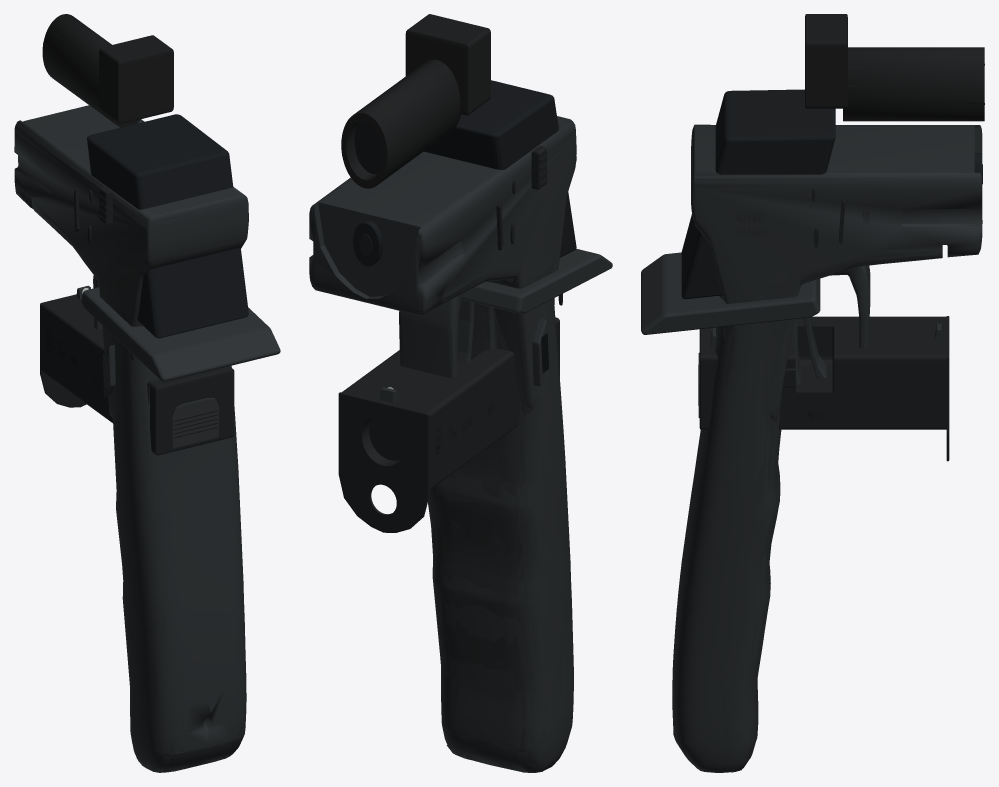
The model's file is weapon_glock17.glb.
The picture shows the model from 3 angles, left to right: view 1: azimuth 30°, elevation 25°; view 2: azimuth 150°, elevation 25°; view 3: azimuth 270°, elevation 25°; orthographic projection. The views are drawn at different scales.
Visible parts, largest first — view 1: Glock051_L0_G17_Frame_LOD0.001, Glock051_L0_G17_Magazine_LOD0.001, Glock051_L1_G17_Frame_LOD0.001, Glock051_L0_G17_Slide_LOD0.001, Glock051_L0_G17_BarrelVisual_LOD0.001, Glock051_L1_G17_Slide_LOD0.001; view 2: Glock051_L0_G17_Frame_LOD0.001, Glock051_L1_G17_Frame_LOD0.001, Glock051_L0_G17_Slide_LOD0.001, Glock051_L0_G17_BarrelVisual_LOD0.001, Glock051_L0_G17_Magazine_LOD0.001, Glock051_L1_G17_Slide_LOD0.001, Glock051_L1_G17_BarrelVisual_LOD0.001, Glock051_L0_G17_Trigger_LOD0.001; view 3: Glock051_L0_G17_Frame_LOD0.001, Glock051_L1_G17_Frame_LOD0.001, Glock051_L0_G17_Slide_LOD0.001, Glock051_L0_G17_Magazine_LOD0.001, Glock051_L0_G17_BarrelVisual_LOD0.001, Glock051_L1_G17_Slide_LOD0.001, Glock051_L1_G17_Magazine_LOD0.001, Glock051_L0_G17_Trigger_LOD0.001.
Part boxes in pixels (<box>): Glock051_L0_G17_Frame_LOD0.001: <box>14,105,248,772</box>; Glock051_L0_G17_Magazine_LOD0.001: <box>81,114,280,381</box>; Glock051_L1_G17_Frame_LOD0.001: <box>14,119,248,772</box>; Glock051_L0_G17_Slide_LOD0.001: <box>40,294,234,455</box>; Glock051_L0_G17_BarrelVisual_LOD0.001: <box>42,14,173,127</box>; Glock051_L1_G17_Slide_LOD0.001: <box>40,309,157,454</box>; Glock051_L0_G17_Frame_LOD0.001: <box>309,116,576,772</box>; Glock051_L1_G17_Frame_LOD0.001: <box>309,119,576,772</box>; Glock051_L0_G17_Slide_LOD0.001: <box>338,317,559,532</box>; Glock051_L0_G17_BarrelVisual_LOD0.001: <box>341,14,490,188</box>; Glock051_L0_G17_Magazine_LOD0.001: <box>424,80,612,313</box>; Glock051_L1_G17_Slide_LOD0.001: <box>363,356,518,487</box>; Glock051_L1_G17_BarrelVisual_LOD0.001: <box>341,112,459,188</box>; Glock051_L0_G17_Trigger_LOD0.001: <box>457,300,474,363</box>; Glock051_L0_G17_Frame_LOD0.001: <box>672,125,982,772</box>; Glock051_L1_G17_Frame_LOD0.001: <box>672,124,982,772</box>; Glock051_L0_G17_Slide_LOD0.001: <box>698,316,949,461</box>; Glock051_L0_G17_Magazine_LOD0.001: <box>641,89,835,334</box>; Glock051_L0_G17_BarrelVisual_LOD0.001: <box>805,14,984,121</box>; Glock051_L1_G17_Slide_LOD0.001: <box>701,356,947,427</box>; Glock051_L1_G17_Magazine_LOD0.001: <box>645,136,805,333</box>; Glock051_L0_G17_Trigger_LOD0.001: <box>804,317,826,378</box>.
Size of the model in its own units: 0.6625 by 3.57 by 1.54.
1 material, 1 textured.
